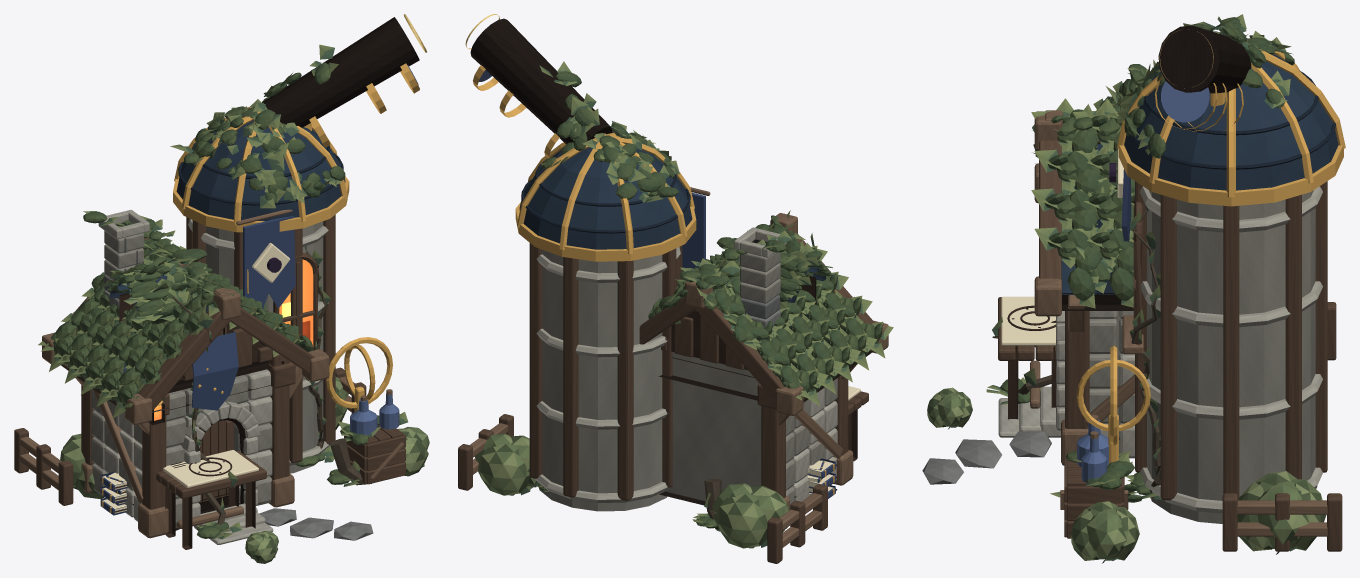
File: research_tower.glb
3 renders of one model, left to right at view 1: azimuth 30°, elevation 25°; view 2: azimuth 150°, elevation 25°; view 3: azimuth 270°, elevation 25°, orthographic. The views are drawn at different scales.
Parts seen in each view (by area): view 1: Telescope dark barrel, Blue observatory dome, Cloth heraldic banner, Observatory round limestone walls, Woodland hanging observatory star chart, Round tower timber upright.007, Carved roof verge, Corner upright, Dome eave brass collar, Round tower timber upright.006, Corner upright.002, Observatory parchment (+37 smaller); view 2: Observatory round limestone walls, Cottage walls, Blue observatory dome, Telescope dark barrel, Round tower timber upright.003, Round tower timber upright.002, Round tower timber upright.001, Dome eave brass collar, Leaf cluster.007, Round tower timber upright.004, Leaf cluster.011, Corner upright.001 (+23 smaller); view 3: Observatory round limestone walls, Blue observatory dome, Round tower timber upright.007, Telescope dark barrel, Round tower timber upright, Round tower timber upright.001, Dome eave brass collar, Round tower timber upright.002, Corner upright.002, Observatory parchment, Round tower stone course.003, Round tower stone course.002 (+49 smaller).
Boxes of the visible parts, x1,y1,x2,y2 form: Telescope dark barrel: (263, 17, 419, 127); Blue observatory dome: (176, 120, 345, 221); Cloth heraldic banner: (243, 216, 295, 308); Observatory round limestone walls: (206, 221, 324, 473); Woodland hanging observatory star chart: (191, 332, 238, 410); Round tower timber upright.007: (323, 214, 335, 444); Carved roof verge: (137, 311, 230, 411); Corner upright: (142, 415, 166, 509); Dome eave brass collar: (173, 176, 349, 232); Round tower timber upright.006: (289, 228, 302, 463); Corner upright.002: (269, 354, 289, 479); Observatory parchment: (163, 450, 258, 487); Observatory round limestone walls: (539, 250, 667, 511); Cottage walls: (665, 352, 761, 501); Blue observatory dome: (519, 147, 692, 249); Telescope dark barrel: (470, 18, 612, 144); Round tower timber upright.003: (617, 260, 633, 500); Round tower timber upright.002: (563, 257, 578, 497); Round tower timber upright.001: (529, 243, 542, 478); Dome eave brass collar: (515, 202, 696, 261); Leaf cluster.007: (713, 494, 767, 548); Round tower timber upright.004: (662, 248, 676, 487); Leaf cluster.011: (478, 443, 529, 495); Corner upright.001: (761, 406, 785, 497); Observatory round limestone walls: (1147, 190, 1317, 523); Blue observatory dome: (1124, 54, 1338, 190); Round tower timber upright.007: (1160, 195, 1176, 500); Telescope dark barrel: (1158, 25, 1251, 93); Round tower timber upright: (1223, 205, 1239, 500); Round tower timber upright.001: (1285, 194, 1301, 479); Dome eave brass collar: (1118, 145, 1343, 206); Round tower timber upright.002: (1315, 181, 1327, 472); Corner upright.002: (1065, 265, 1089, 428); Observatory parchment: (1001, 296, 1056, 345); Round tower stone course.003: (1139, 186, 1322, 232); Round tower stone course.002: (1141, 281, 1322, 327).
Bounding box in the file's own units: 4.66 × 5.3 × 3.64.
Materials: 44 (30 with a texture image).
